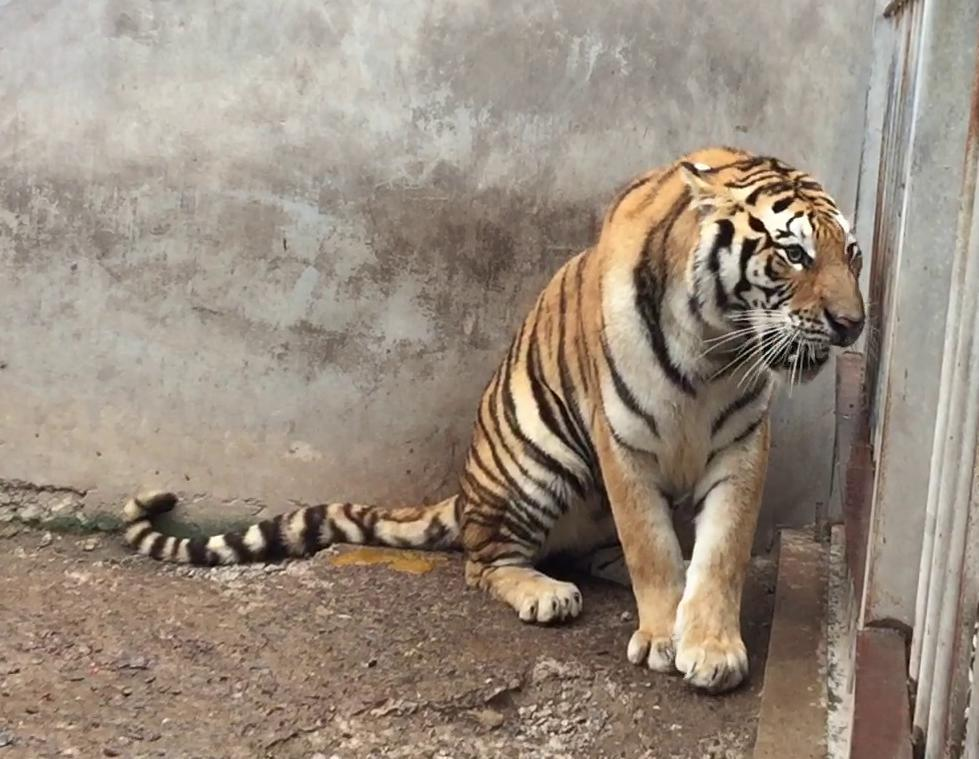tiger: (124, 147, 867, 690)
